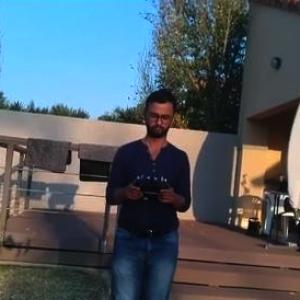follow: (99, 81, 196, 299)
